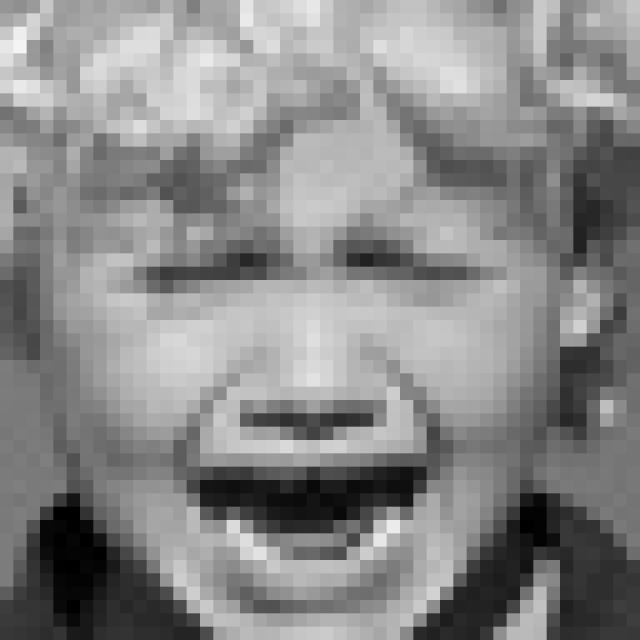sad: (96, 202, 508, 604)
